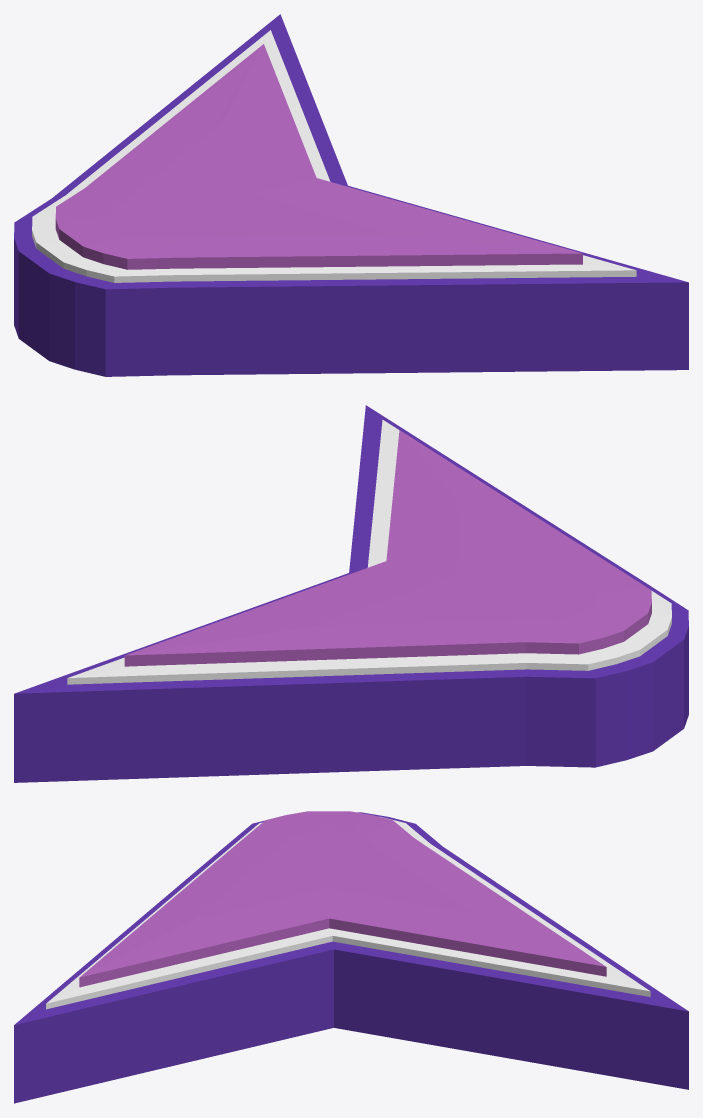
The model's file is RampArrow.fbx.
The picture shows the model from 3 angles, top to bottom: view 1: azimuth 30°, elevation 25°; view 2: azimuth 150°, elevation 25°; view 3: azimuth 270°, elevation 25°; orthographic projection. The views are drawn at different scales.
Parts seen in each view (by area): view 1: group568754965; view 2: group568754965; view 3: group568754965.
Boxes of the visible parts, x1=… form: group568754965: x1=14, y1=14, x2=688, y2=376; group568754965: x1=14, y1=405, x2=688, y2=782; group568754965: x1=14, y1=811, x2=688, y2=1103.
Size of the model in its own units: 91 by 20.47 by 125.
